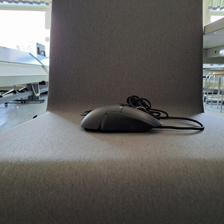mouse: (79, 104, 160, 132)
